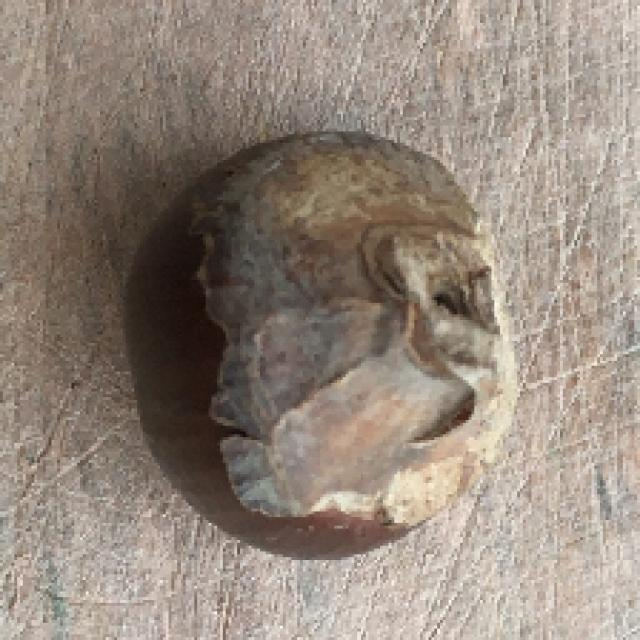DamagedHazelnut: (118, 134, 528, 559)
